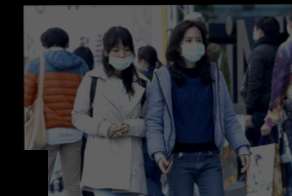mask_weared_incorrect: (106, 44, 133, 71)
with_mask: (180, 33, 206, 65)
